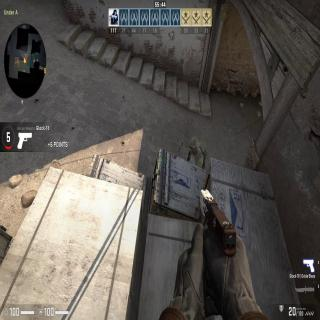CT-Head: (188, 137, 200, 154)
